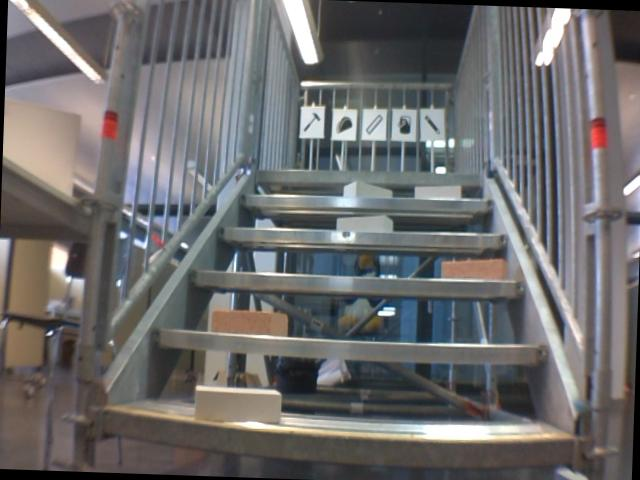brick: (192, 385, 281, 422), (214, 311, 287, 336), (441, 256, 507, 280), (336, 212, 392, 233), (341, 181, 392, 198), (414, 184, 460, 197)
bucket: (394, 113, 414, 137)
edge: (102, 408, 572, 468), (151, 328, 545, 363), (187, 270, 525, 298), (214, 223, 508, 248), (239, 191, 491, 212), (256, 166, 480, 186)
hammer: (302, 110, 322, 135)
pencil: (421, 112, 443, 138)
ruler: (363, 113, 383, 135)
steps: (91, 158, 586, 474)
taco: (332, 112, 354, 137)
